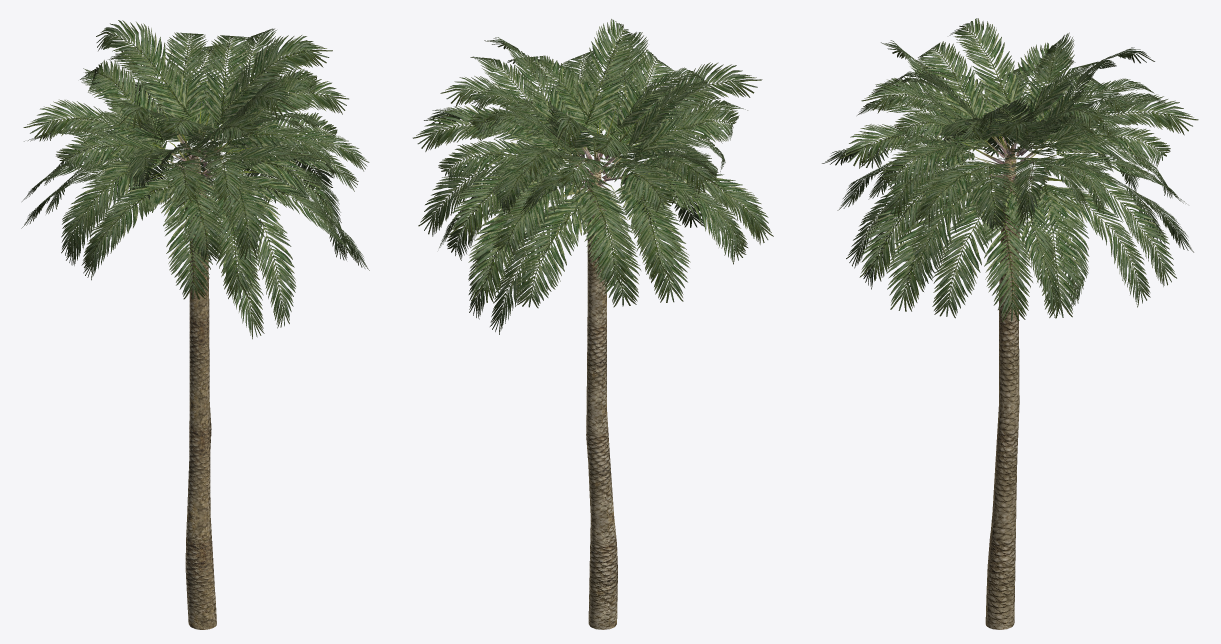
Rendered from Date_Palm_Model_0.obj.
The picture shows the model from 3 angles, left to right: view 1: azimuth 30°, elevation 25°; view 2: azimuth 150°, elevation 25°; view 3: azimuth 270°, elevation 25°; orthographic projection.
Visible parts, largest first — view 1: Foliage, Bark; view 2: Foliage, Bark; view 3: Foliage, Bark.
Boxes of the visible parts, <box> form: Foliage: <box>21,20,369,339</box>; Bark: <box>185,150,216,629</box>; Foliage: <box>413,19,773,334</box>; Bark: <box>586,155,617,629</box>; Foliage: <box>822,18,1198,321</box>; Bark: <box>985,144,1020,629</box>.
Size of the model in its own units: 13.59 by 22.5 by 14.08.
Materials: 2 (2 with a texture image).
